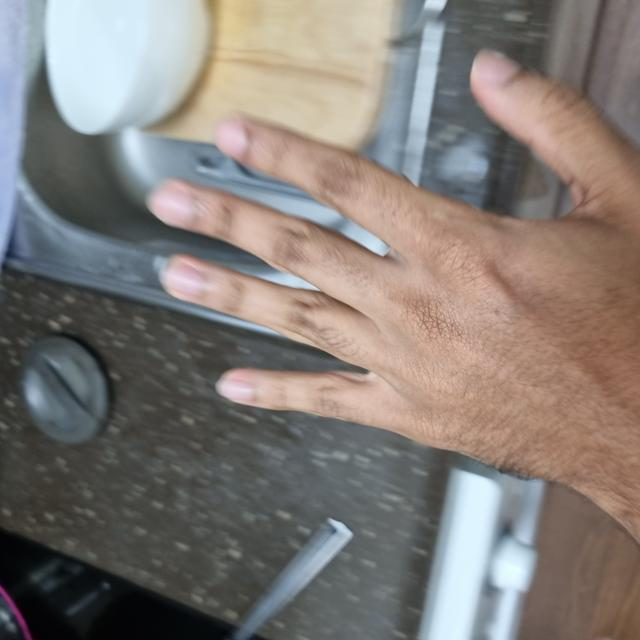Paper: (127, 159, 584, 640)
